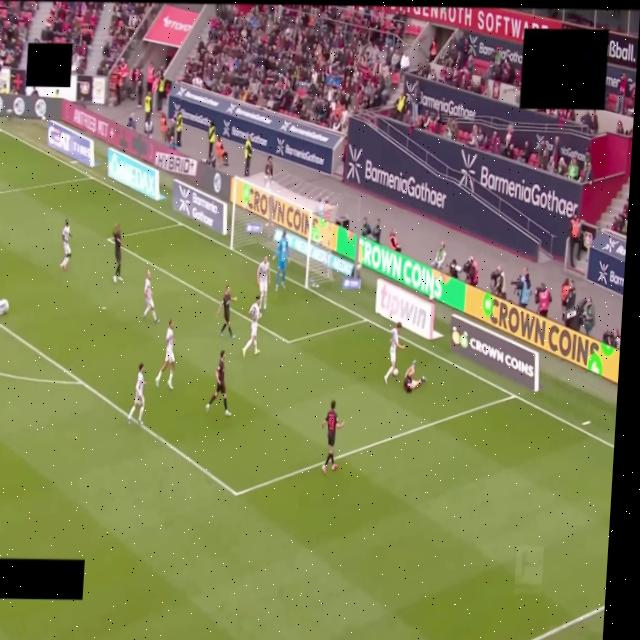ball: (393, 369, 398, 376)
player: (206, 350, 231, 416), (322, 400, 343, 474), (155, 320, 175, 389), (384, 322, 404, 383), (242, 296, 261, 357), (127, 363, 145, 424), (217, 286, 237, 339), (273, 231, 289, 290), (143, 271, 159, 323), (403, 360, 426, 392), (60, 219, 73, 271), (257, 256, 269, 312), (113, 224, 123, 282), (0, 299, 8, 315)
